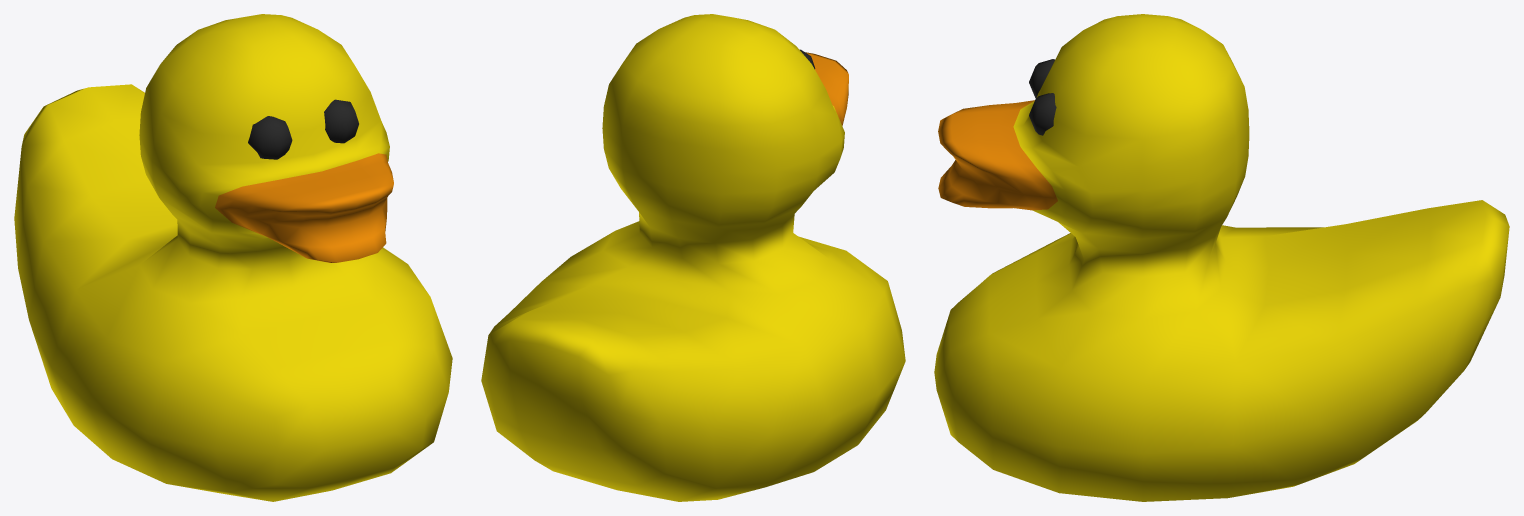
File: duck.glb
3 views of the same model, side by side, from view 1: azimuth 30°, elevation 25°; view 2: azimuth 150°, elevation 25°; view 3: azimuth 270°, elevation 25° (orthographic). The views are drawn at different scales.
Parts seen in each view (by area): view 1: Duck; view 2: Duck; view 3: Duck.
Part boxes in pixels (x1,y1,x2,y2): Duck: [14, 14, 452, 501]; Duck: [481, 14, 905, 501]; Duck: [934, 14, 1509, 501].
Bounding box in the file's own units: 2.04 × 2.48 × 2.98.
